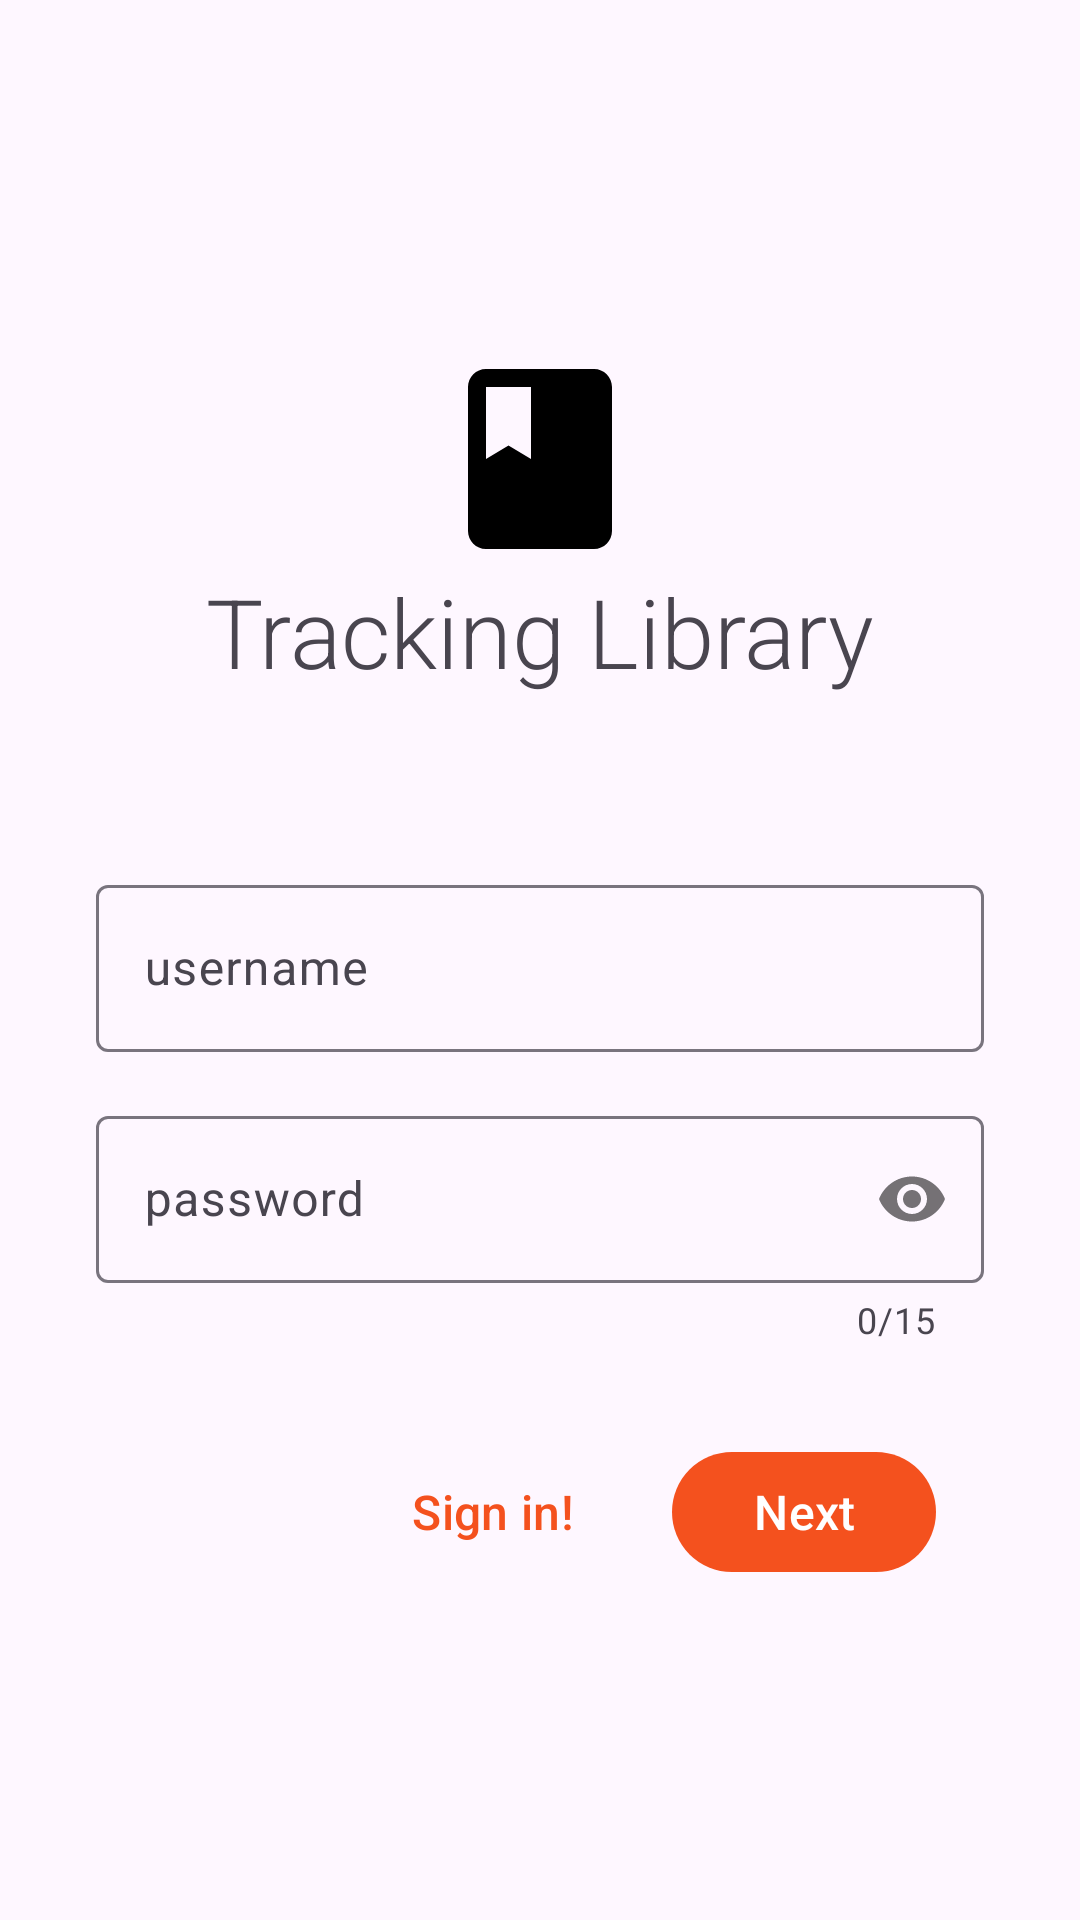

Named icons in this screenshot (1080px x 1920px) and their centers, point (x, y):
book: point (540, 459)
